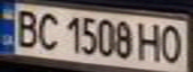0: (93, 17, 118, 59)
1: (60, 12, 81, 54)
5: (78, 15, 100, 56)
8: (112, 18, 136, 61)
B: (9, 6, 42, 49)
C: (33, 9, 63, 51)
H: (136, 19, 163, 62)
O: (157, 21, 187, 64)
